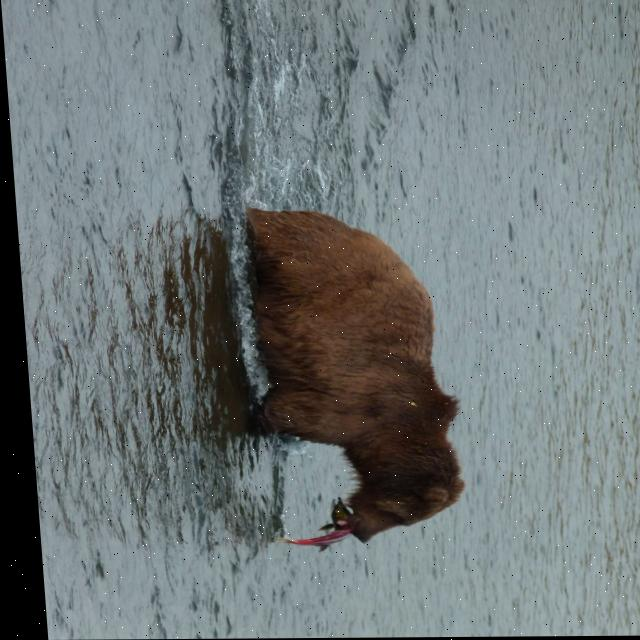bear face: (240, 208, 460, 541)
